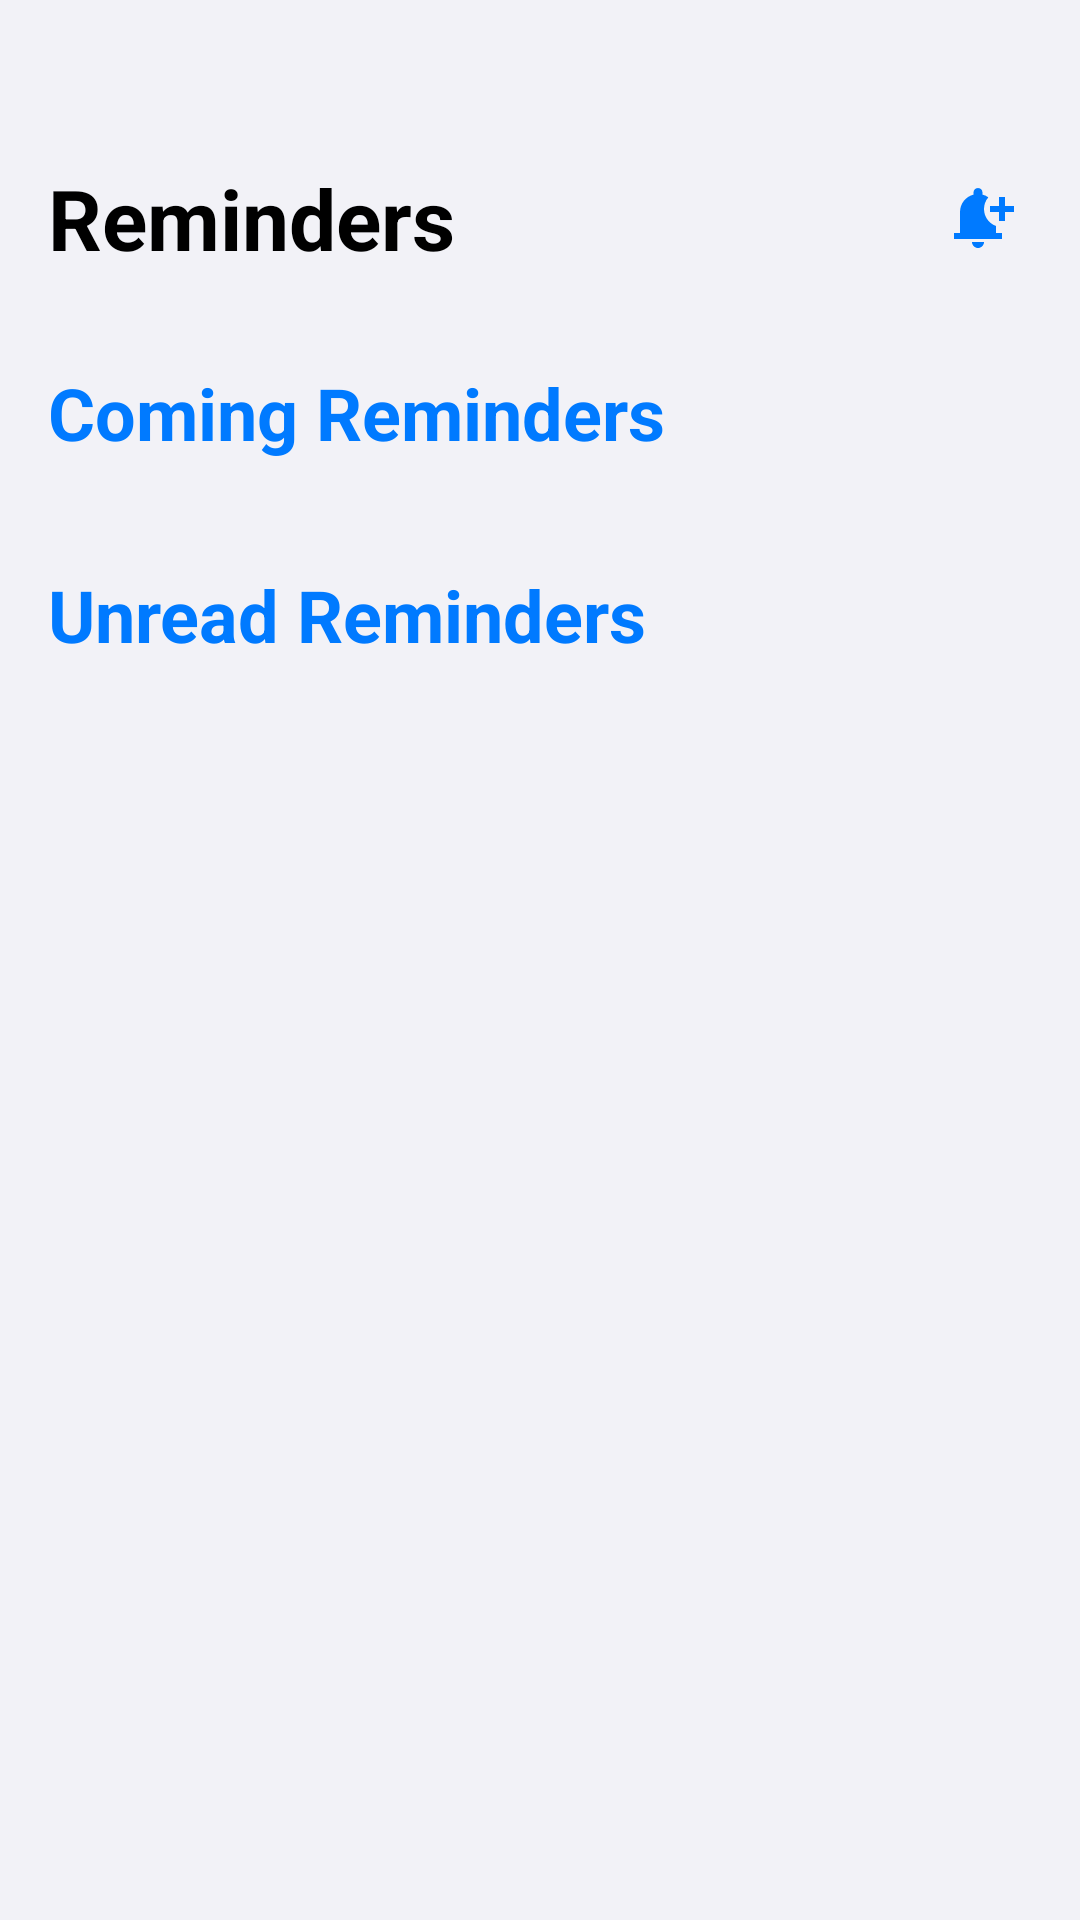

Locate icon controls on the screen. Image size 1080 x 1920, boxes as [x1,y1,x2,y2].
add noti: [954,188,1014,248]
